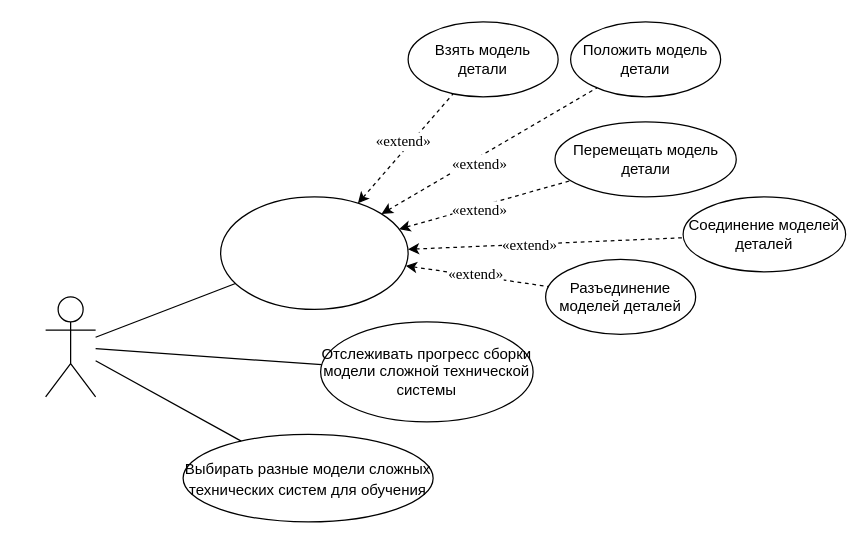
Image size: 868x544. Some labels were removed from this diagram. Each missing label, with the centre of its shape:
Манипулировать моделями деталей сборки: [313,252]
Пользователь: [70,346]
